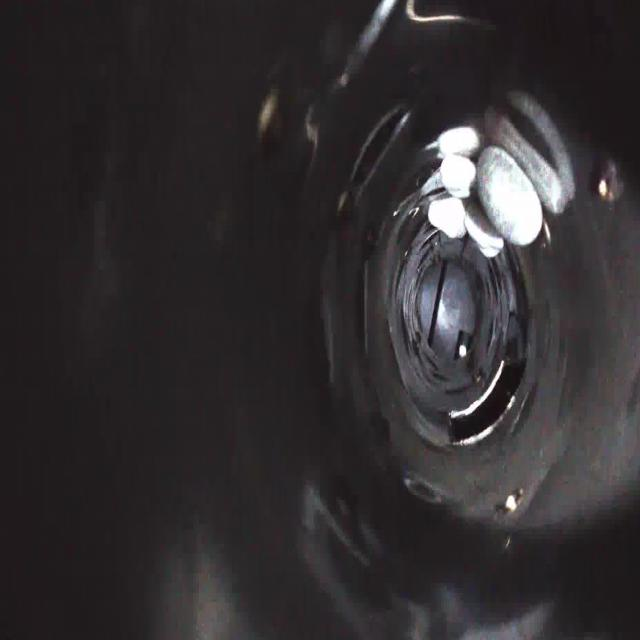crack: (389, 272, 415, 354), (485, 263, 509, 324)
hole: (442, 356, 534, 458)
